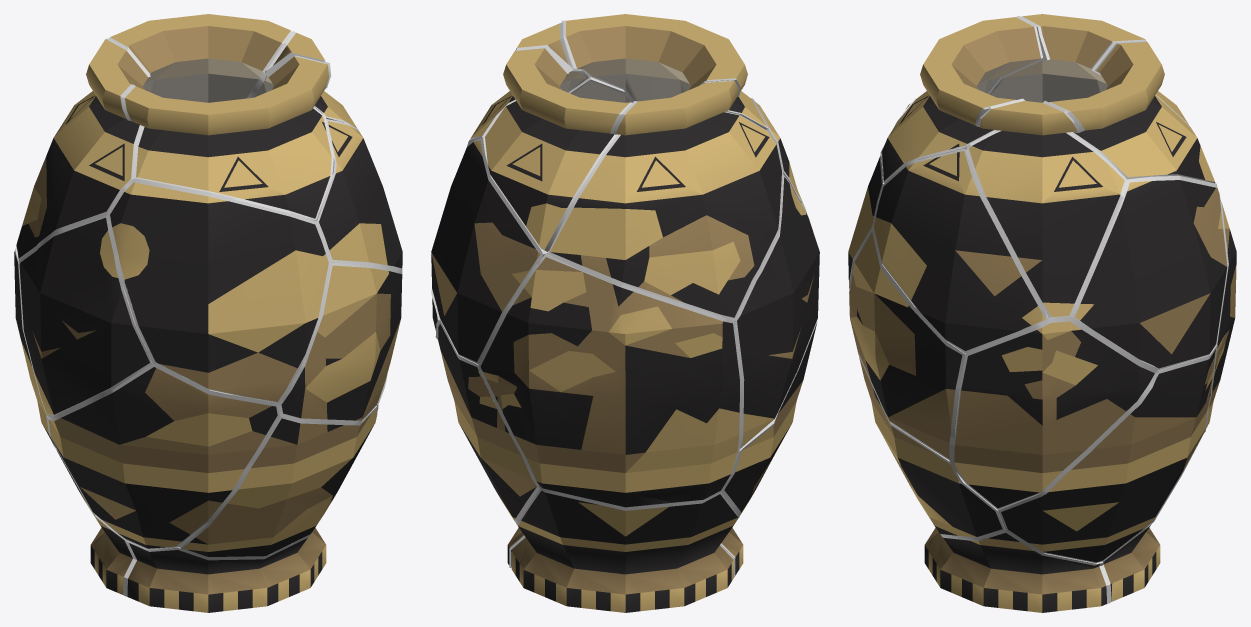
File: v14_trees.fbx
3 renders of one model, left to right at view 1: azimuth 30°, elevation 25°; view 2: azimuth 150°, elevation 25°; view 3: azimuth 270°, elevation 25°, orthographic.
Visible parts, largest first — view 1: shard8, shard7, shard9, shard13, shard14, shard3, shard10, shard2, shard6, shard16, gold8, gold7 (+11 smaller); view 2: shard4, shard3, shard5, shard2, shard12, shard13, shard9, shard1, shard7, gold4, gold3, shard15 (+9 smaller); view 3: shard11, shard12, shard16, shard15, shard1, shard10, shard9, shard2, shard6, shard3, shard14, shard5 (+13 smaller).
Part boxes in pixels (bbox=[...]): shard8: bbox=[110, 182, 328, 401]; shard7: bbox=[48, 367, 277, 548]; shard9: bbox=[125, 56, 331, 218]; shard13: bbox=[19, 217, 149, 414]; shard14: bbox=[183, 409, 376, 556]; shard3: bbox=[16, 39, 147, 258]; shard10: bbox=[281, 265, 402, 420]; shard2: bbox=[110, 14, 290, 102]; shard6: bbox=[127, 527, 326, 612]; shard16: bbox=[319, 121, 402, 268]; gold8: bbox=[107, 178, 331, 403]; gold7: bbox=[46, 363, 280, 549]; shard4: bbox=[480, 257, 739, 507]; shard3: bbox=[550, 81, 781, 317]; shard5: bbox=[511, 490, 737, 612]; shard2: bbox=[485, 48, 629, 249]; shard12: bbox=[431, 140, 540, 361]; shard13: bbox=[737, 177, 819, 446]; shard9: bbox=[566, 14, 766, 126]; shard1: bbox=[438, 324, 536, 520]; shard7: bbox=[724, 324, 816, 514]; gold4: bbox=[478, 254, 742, 509]; gold3: bbox=[548, 80, 783, 320]; shard15: bbox=[471, 23, 586, 137]; shard11: bbox=[954, 321, 1154, 508]; shard12: bbox=[1074, 180, 1227, 368]; shard16: bbox=[874, 151, 1045, 350]; shard15: bbox=[969, 101, 1124, 316]; shard1: bbox=[1001, 349, 1215, 562]; shard10: bbox=[849, 232, 962, 459]; shard9: bbox=[882, 17, 1040, 180]; shard2: bbox=[1050, 42, 1214, 181]; shard6: bbox=[924, 527, 1107, 612]; shard3: bbox=[991, 14, 1188, 124]; shard14: bbox=[859, 357, 1002, 536]; shard5: bbox=[1103, 526, 1160, 601].
Size of the model in its own units: 11.43 by 16.23 by 11.43.
